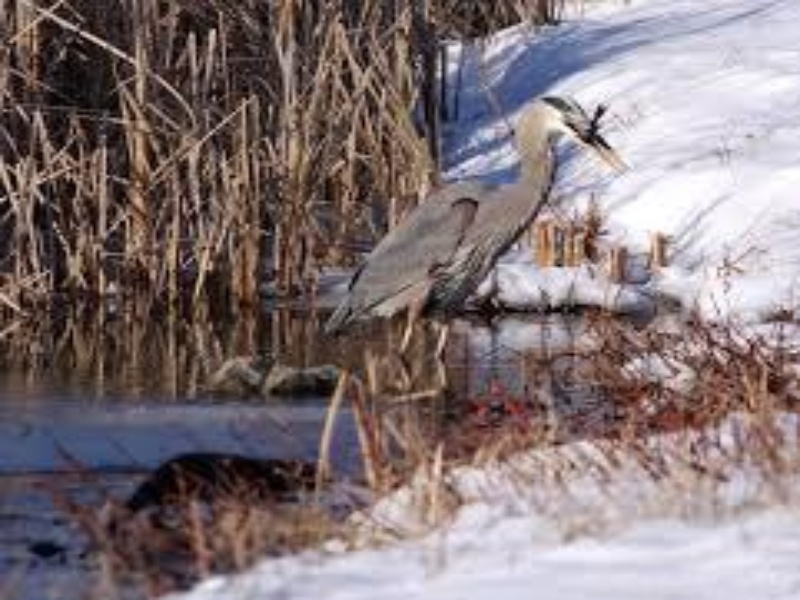heron: (318, 92, 636, 336)
